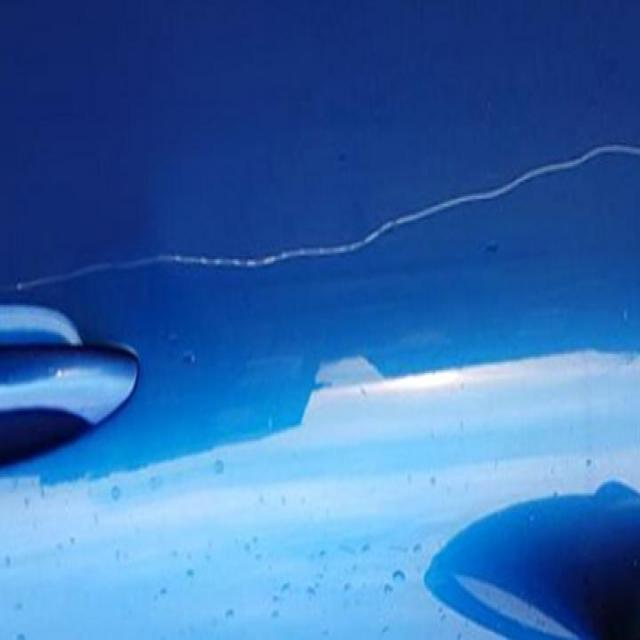scratch: (1, 128, 636, 332)
